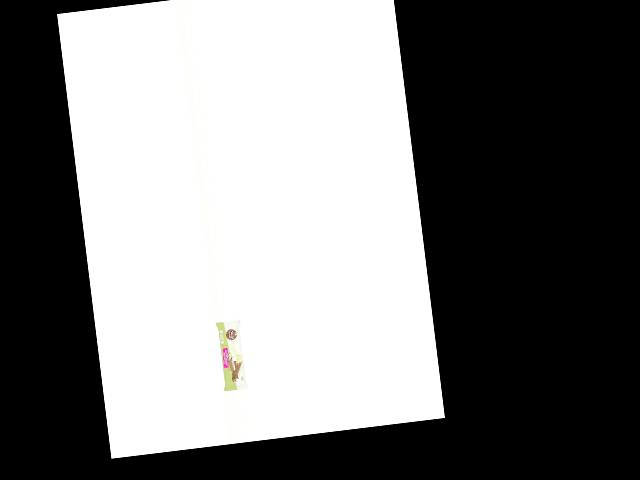chocolate: (213, 319, 250, 393)
